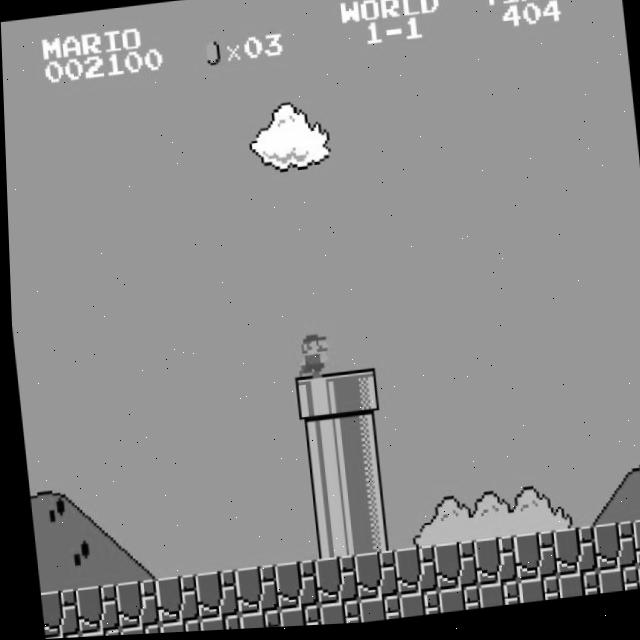11- little_mario: (284, 330, 332, 383)
14- pipe: (304, 511, 350, 562), (339, 462, 385, 513), (344, 507, 390, 558), (295, 421, 341, 471), (300, 467, 345, 517), (335, 417, 380, 466)
15- pipe_head: (291, 375, 336, 426), (331, 371, 376, 421)
17- undestructible_block: (70, 584, 116, 635), (149, 575, 195, 626), (229, 566, 275, 617), (269, 562, 315, 613), (428, 544, 474, 595), (468, 540, 514, 591), (189, 571, 235, 621), (388, 549, 434, 599), (110, 579, 155, 630), (309, 557, 354, 608), (349, 553, 394, 604), (508, 535, 553, 586), (548, 531, 593, 582), (588, 526, 633, 577), (36, 589, 75, 638), (353, 598, 397, 626), (393, 594, 437, 622), (472, 585, 516, 613), (552, 576, 596, 604), (592, 572, 636, 600), (433, 589, 476, 617), (512, 581, 556, 608), (313, 602, 357, 628), (273, 607, 317, 630), (233, 611, 277, 631), (193, 616, 237, 633), (627, 523, 640, 573), (153, 620, 197, 634), (113, 624, 157, 636), (73, 629, 117, 638), (631, 568, 640, 595)
